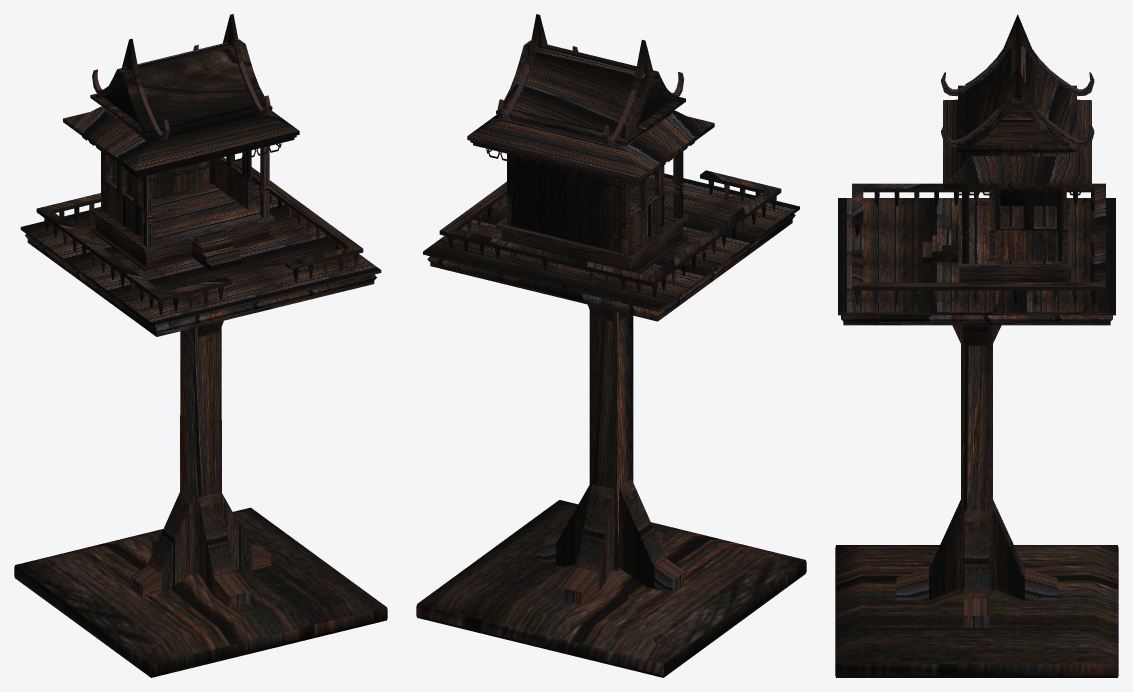
The model's file is FixedShrine.fbx.
3 views of the same model, side by side, from view 1: azimuth 30°, elevation 25°; view 2: azimuth 150°, elevation 25°; view 3: azimuth 270°, elevation 25° (orthographic). The views are drawn at different scales.
Visible parts, largest first — view 1: Cube.001, Cube.004, Cube.007, Cube.010, Cube.014, Cube.015, Cube.008, Cube.009, Cube.006, Plane, Circle.001, Cube.013 (+2 smaller); view 2: Cube.001, Cube.004, Cube.007, Cube.015, Cube.014, Cube.008, Cube.009, Cube.010, Cube.006, Plane, Circle.001, Cube.016; view 3: Cube.001, Cube.004, Cube.007, Cube.014, Cube.006, Cube.010, Cube.009, Cube.015, Plane, Cube.008, Circle.001, Cube.013 (+3 smaller).
Boxes of the visible parts, box(x1,y1,x2,y2) form: Cube.001: box(14, 324, 387, 677); Cube.004: box(20, 181, 381, 336); Cube.007: box(90, 39, 272, 140); Cube.010: box(90, 184, 274, 270); Cube.014: box(63, 106, 299, 177); Cube.015: box(101, 150, 251, 235); Cube.008: box(130, 488, 271, 596); Cube.009: box(36, 160, 363, 301); Cube.006: box(151, 492, 250, 607); Plane: box(92, 14, 270, 140); Circle.001: box(44, 180, 358, 314); Cube.013: box(192, 229, 241, 271); Cube.001: box(416, 307, 806, 677); Cube.004: box(423, 172, 799, 321); Cube.007: box(496, 40, 685, 146); Cube.015: box(507, 153, 664, 253); Cube.014: box(467, 110, 714, 184); Cube.008: box(538, 479, 684, 593); Cube.009: box(439, 170, 781, 286); Cube.010: box(496, 202, 688, 273); Cube.006: box(560, 484, 662, 604); Plane: box(497, 14, 683, 146); Circle.001: box(448, 180, 776, 297); Cube.016: box(673, 151, 683, 218); Cube.001: box(835, 325, 1118, 677); Cube.004: box(838, 198, 1115, 325); Cube.007: box(958, 46, 1076, 152); Cube.014: box(943, 99, 1091, 189); Cube.006: box(896, 500, 1057, 600); Cube.010: box(958, 199, 1071, 282); Cube.009: box(852, 183, 1105, 290); Cube.015: box(989, 189, 1066, 261); Plane: box(941, 14, 1094, 146); Cube.008: box(964, 510, 989, 627); Circle.001: box(854, 192, 1096, 304); Cube.013: box(923, 224, 958, 262).
Size of the model in its own units: 49.75 by 112 by 49.75.
Materials: 1 (1 with a texture image).
